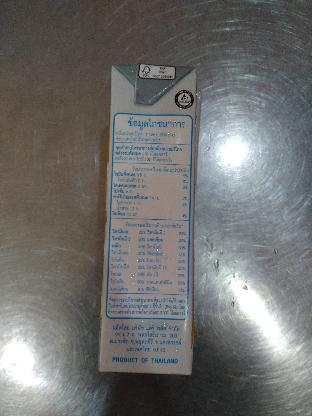Others: (86, 49, 210, 385)
